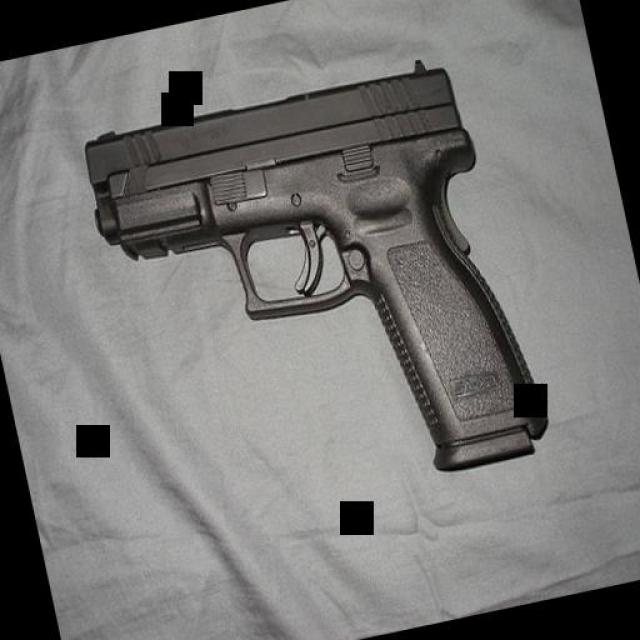gun: (74, 45, 555, 535)
